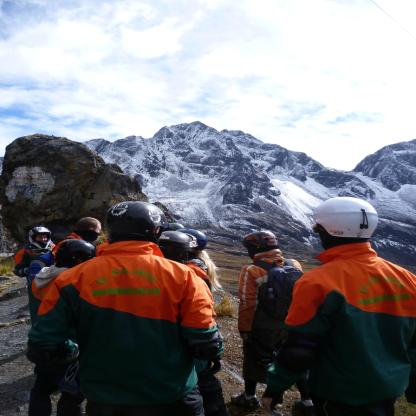Helmet: (320, 199, 380, 249), (102, 201, 167, 242), (55, 239, 97, 267), (156, 230, 192, 262), (243, 230, 278, 259), (173, 228, 208, 254), (26, 226, 54, 250), (167, 222, 185, 228)
